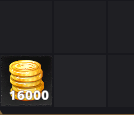gold: (2, 57, 53, 107)
